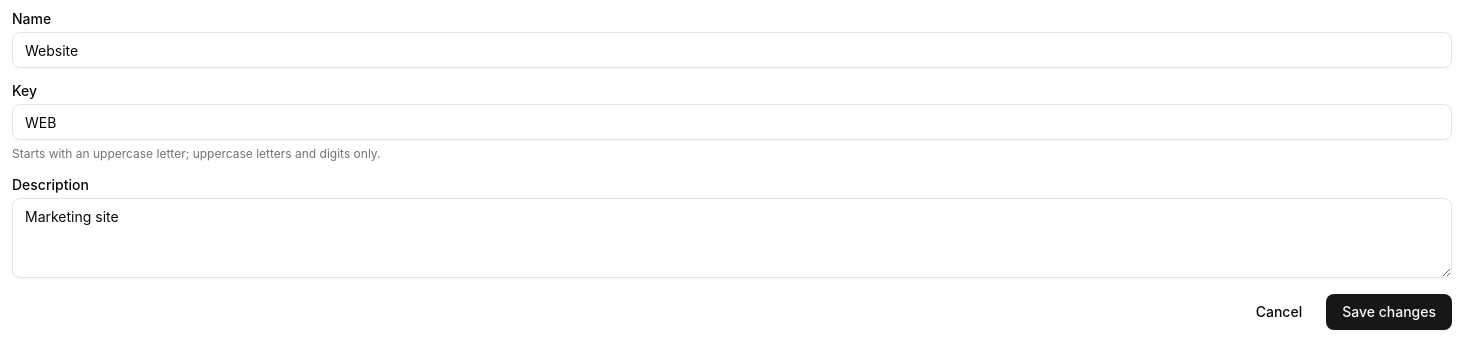
Test: ProjectForm edit mode › maps a 409 conflict onto the key field
Click the button "Save changes" at x=1389, y=312, box [1326,294,1452,330]
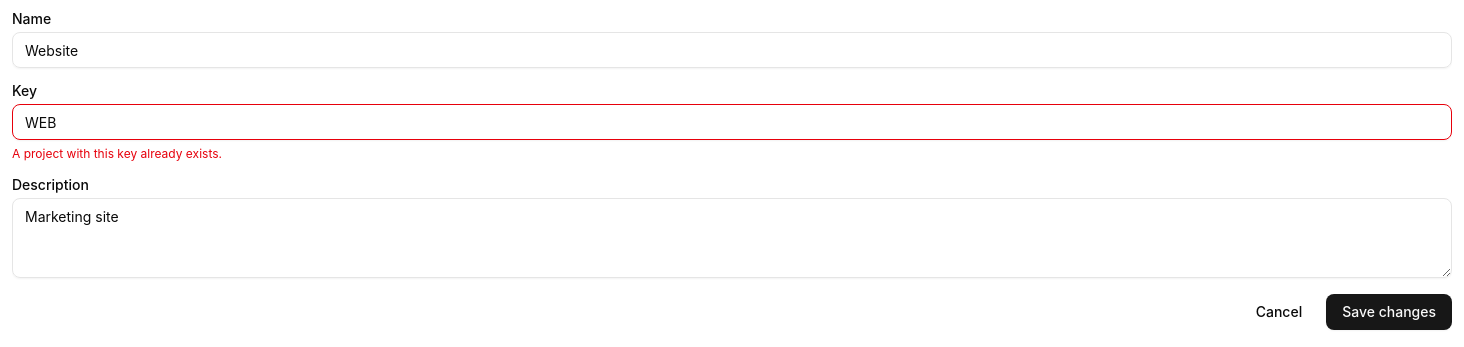
expect the text "A project with this key already exists." is shown: met, box [12,146,222,161]
